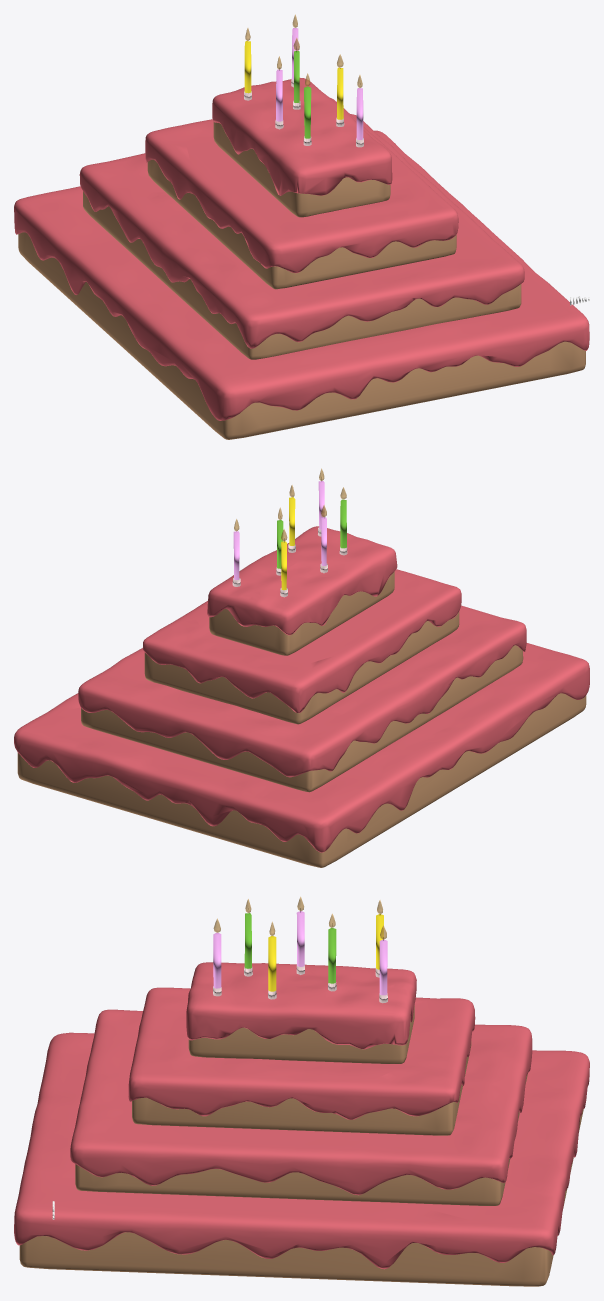
The model's file is cake.glb.
3 views of the same model, one above another, from view 1: azimuth 30°, elevation 25°; view 2: azimuth 150°, elevation 25°; view 3: azimuth 270°, elevation 25° (orthographic). The views are drawn at different scales.
Visible parts, largest first — view 1: Botten 1.002; view 2: Botten 1.002; view 3: Botten 1.002.
Part boxes in pixels (x1=…): Botten 1.002: x1=14, y1=14, x2=589, y2=439; Botten 1.002: x1=14, y1=468, x2=589, y2=867; Botten 1.002: x1=14, y1=896, x2=589, y2=1286.
Bounding box in the file's own units: 4.61 × 3 × 5.54.
